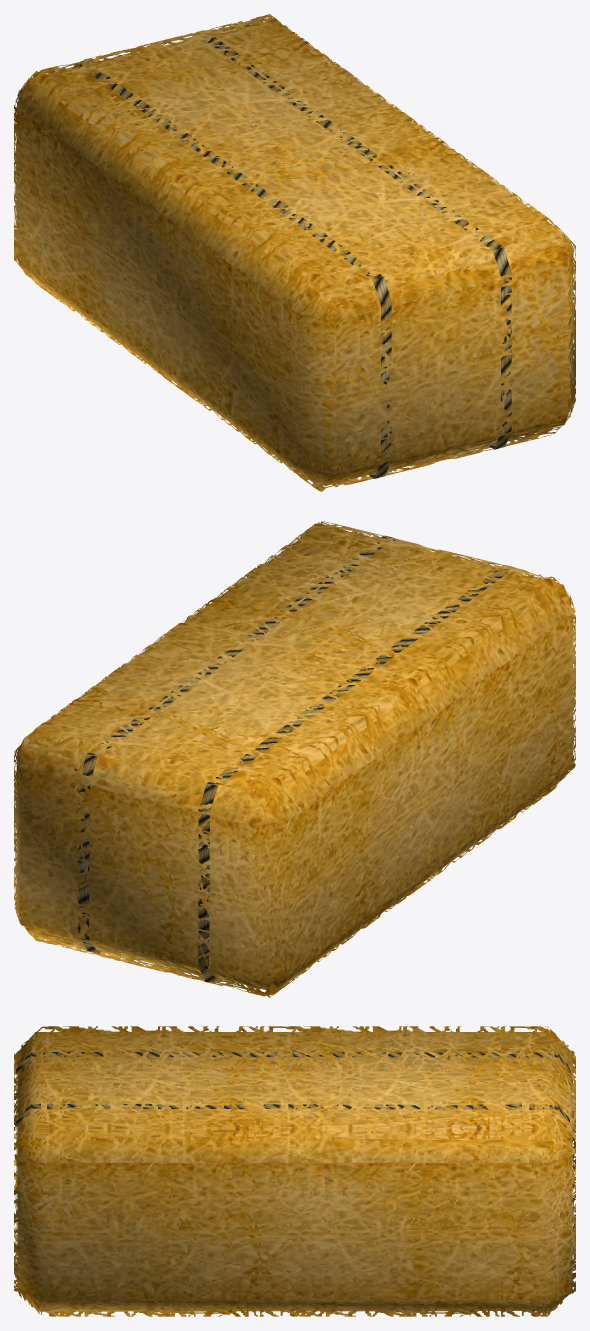
Rendered from HAYBAIL_BIG.fbx.
3 renders of one model, top to bottom at view 1: azimuth 30°, elevation 25°; view 2: azimuth 150°, elevation 25°; view 3: azimuth 270°, elevation 25°, orthographic. The views are drawn at different scales.
Parts seen in each view (by area): view 1: HAYBAIL_BIG; view 2: HAYBAIL_BIG; view 3: HAYBAIL_BIG.
Boxes of the visible parts, x1,y1,x2,y2 form: HAYBAIL_BIG: (14, 14, 575, 491); HAYBAIL_BIG: (14, 521, 575, 997); HAYBAIL_BIG: (14, 1026, 575, 1316).
Size of the model in its own units: 9963 by 7289 by 19647.
Materials: 3 (3 with a texture image).
